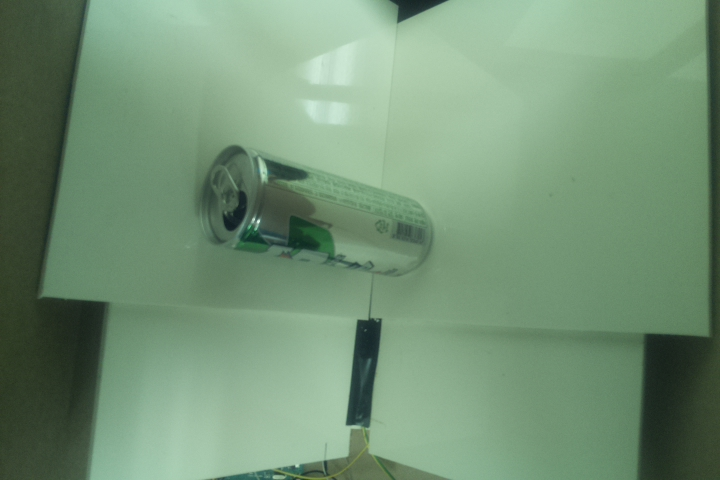can: (195, 142, 438, 281)
